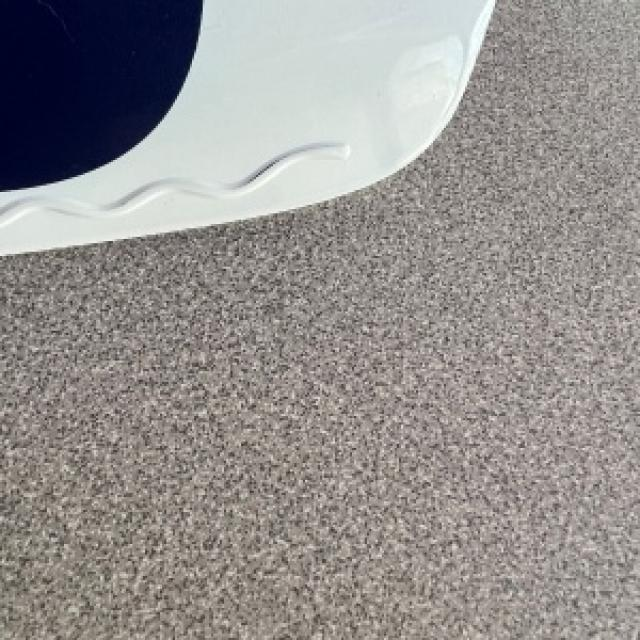healthy: (0, 0, 491, 250)
